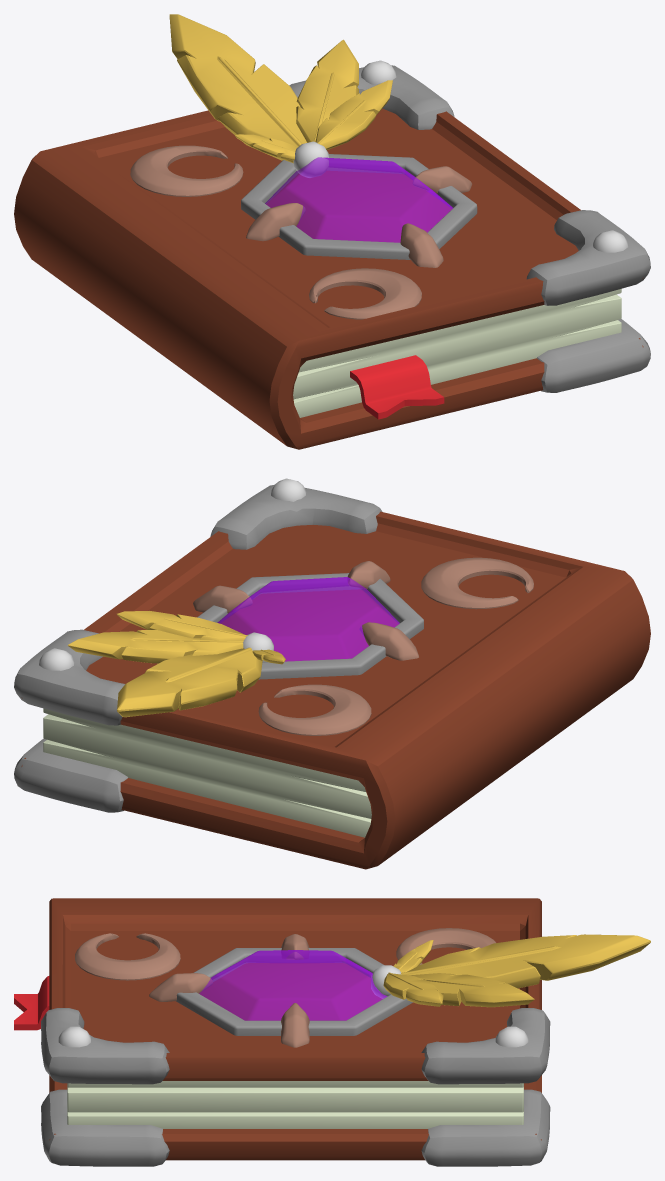
The model's file is Book.fbx.
3 renders of one model, top to bottom at view 1: azimuth 30°, elevation 25°; view 2: azimuth 150°, elevation 25°; view 3: azimuth 270°, elevation 25°, orthographic. The views are drawn at different scales.
Parts seen in each view (by area): view 1: Book, Stone, BookPages, BookConner, Feather, FeatherLat, Moons, PageMarker, Pearl; view 2: Book, Stone, BookPages, BookConner, Moons, Feather, FeatherLat, Pearl; view 3: Book, BookConner, BookPages, Stone, Feather, Moons, FeatherLat, Pearl, PageMarker.
Part boxes in pixels (bbox=[...]): Book: bbox=[14, 108, 643, 449]; Stone: bbox=[241, 154, 477, 267]; BookPages: bbox=[293, 289, 621, 417]; BookConner: bbox=[289, 65, 650, 392]; Feather: bbox=[169, 14, 307, 163]; FeatherLat: bbox=[235, 39, 392, 160]; Moons: bbox=[130, 145, 421, 319]; PageMarker: bbox=[350, 355, 444, 419]; Pearl: bbox=[293, 60, 628, 252]; Book: bbox=[21, 511, 650, 869]; Stone: bbox=[193, 561, 423, 679]; BookPages: bbox=[43, 708, 371, 837]; BookConner: bbox=[14, 484, 382, 812]; Moons: bbox=[258, 557, 533, 735]; Feather: bbox=[117, 647, 262, 717]; FeatherLat: bbox=[67, 610, 285, 664]; Pearl: bbox=[39, 478, 306, 670]; Book: bbox=[49, 898, 541, 1160]; BookConner: bbox=[41, 1008, 550, 1166]; BookPages: bbox=[67, 1081, 523, 1128]; Stone: bbox=[149, 934, 412, 1047]; Feather: bbox=[401, 934, 650, 988]; Moons: bbox=[75, 928, 495, 980]; FeatherLat: bbox=[383, 940, 534, 1007]; Pearl: bbox=[58, 965, 528, 1047]; PageMarker: bbox=[14, 976, 49, 1030].
Bounding box in the file's own units: 0.2822 × 0.1186 × 0.4283.
